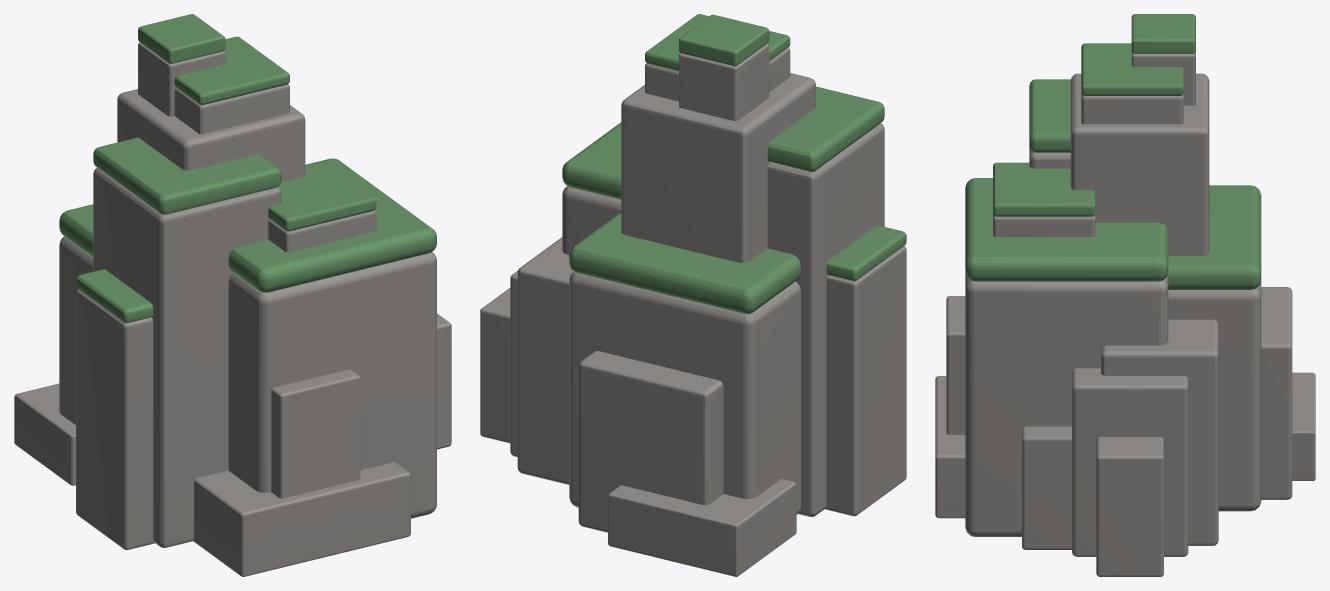
File: Rock_007.fbx
3 views of the same model, side by side, from view 1: azimuth 30°, elevation 25°; view 2: azimuth 150°, elevation 25°; view 3: azimuth 270°, elevation 25° (orthographic). The views are drawn at different scales.
Parts seen in each view (by area): view 1: Rock_007; view 2: Rock_007; view 3: Rock_007.
Part boxes in pixels (<box>): Rock_007: <box>14,14,451,576</box>; Rock_007: <box>480,14,906,576</box>; Rock_007: <box>935,14,1315,576</box>.
Size of the model in its own units: 2.72 by 3.29 by 2.59.
